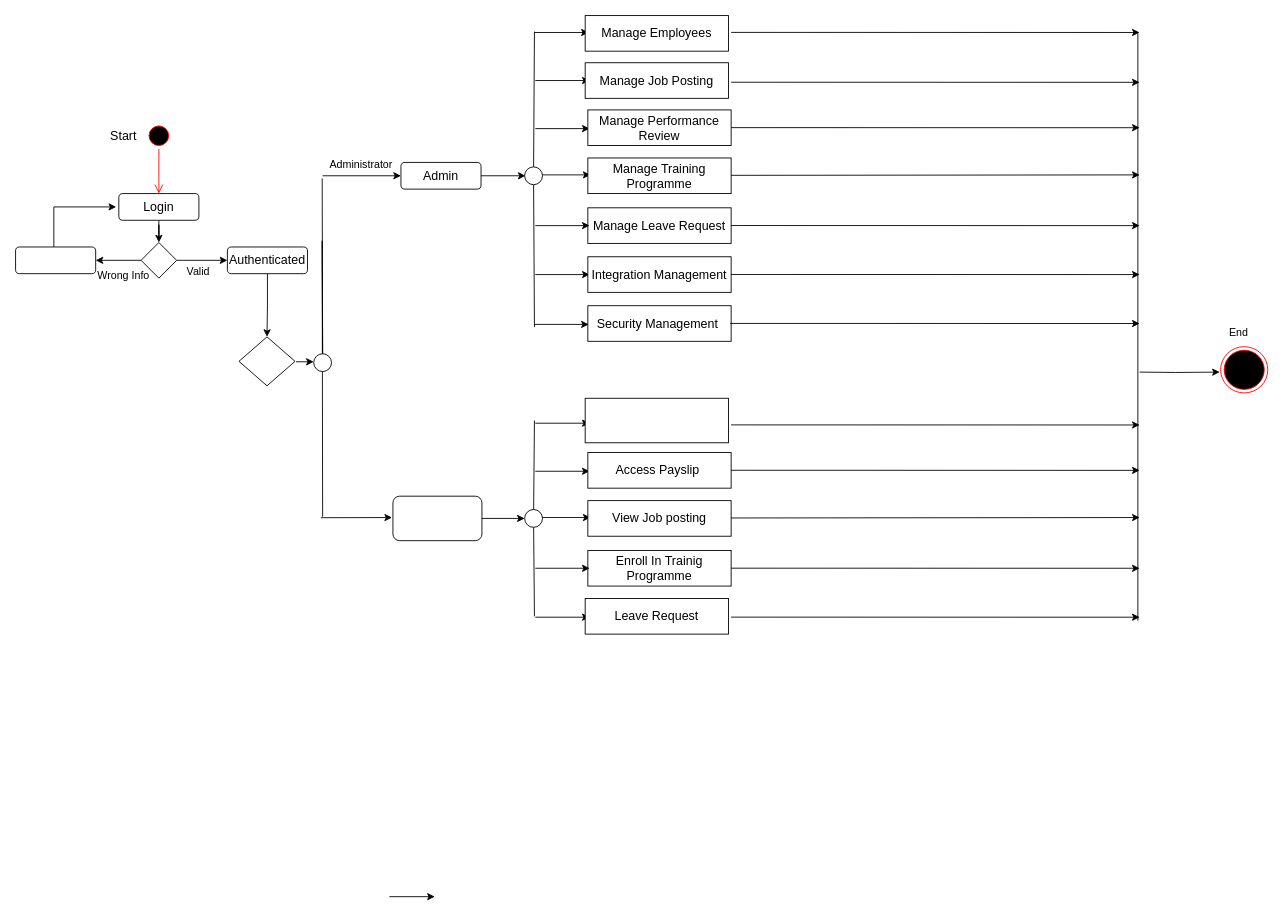
This 1283x919 diagram has some shape labels left out. Each missing label, with the centre of its shape:
Login Failed: the point at 55,260
Non- Administrator: the point at 437,518
View Personal Info: the point at 656,420
